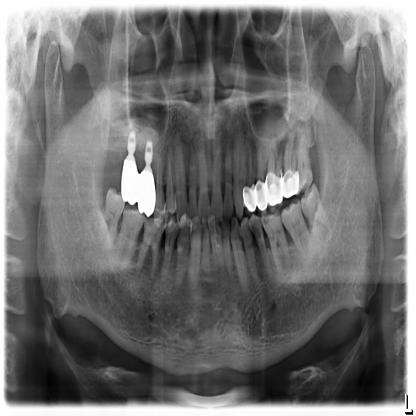Bicon: (125, 129, 138, 160), (143, 136, 154, 166)
